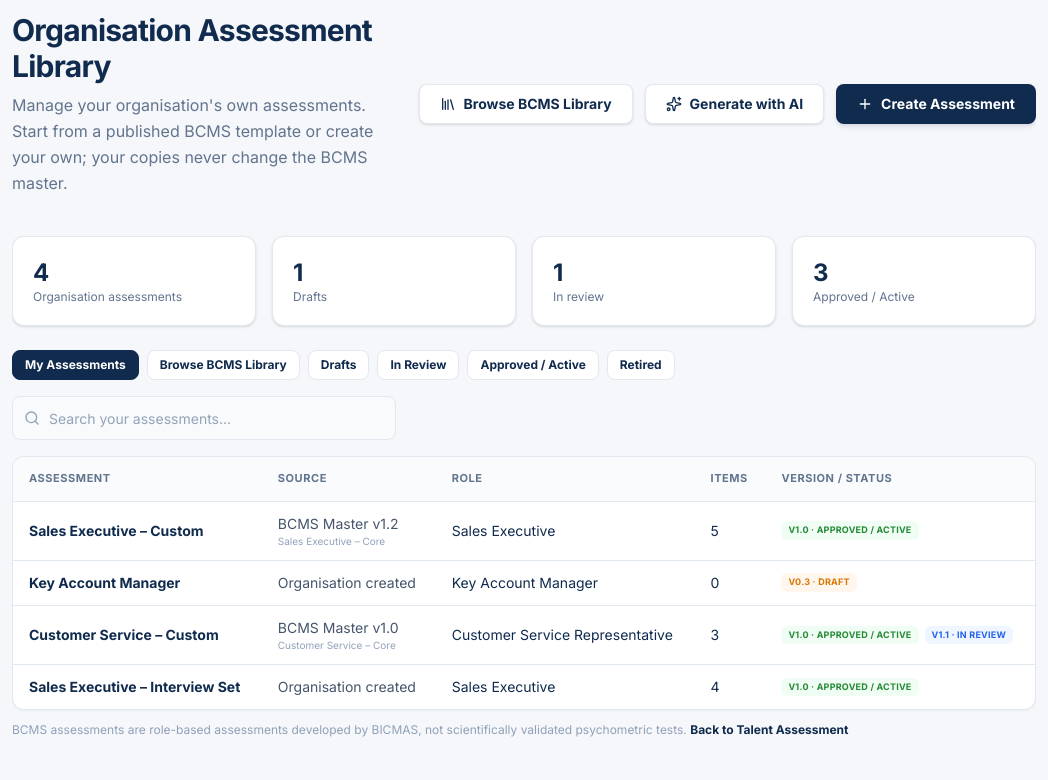
it: Organisation Assessment Library screen › shows the organisation's assessments by lifecycle
Expected: the text "Sales Executive – Custom" is shown, [29,522,204,539]
Expected: the text "Organisation created" is shown 2 times, [278,574,416,591]; [278,678,416,695]
Click the tab "In Review". click: (418, 365)
box: [378,350,460,380]
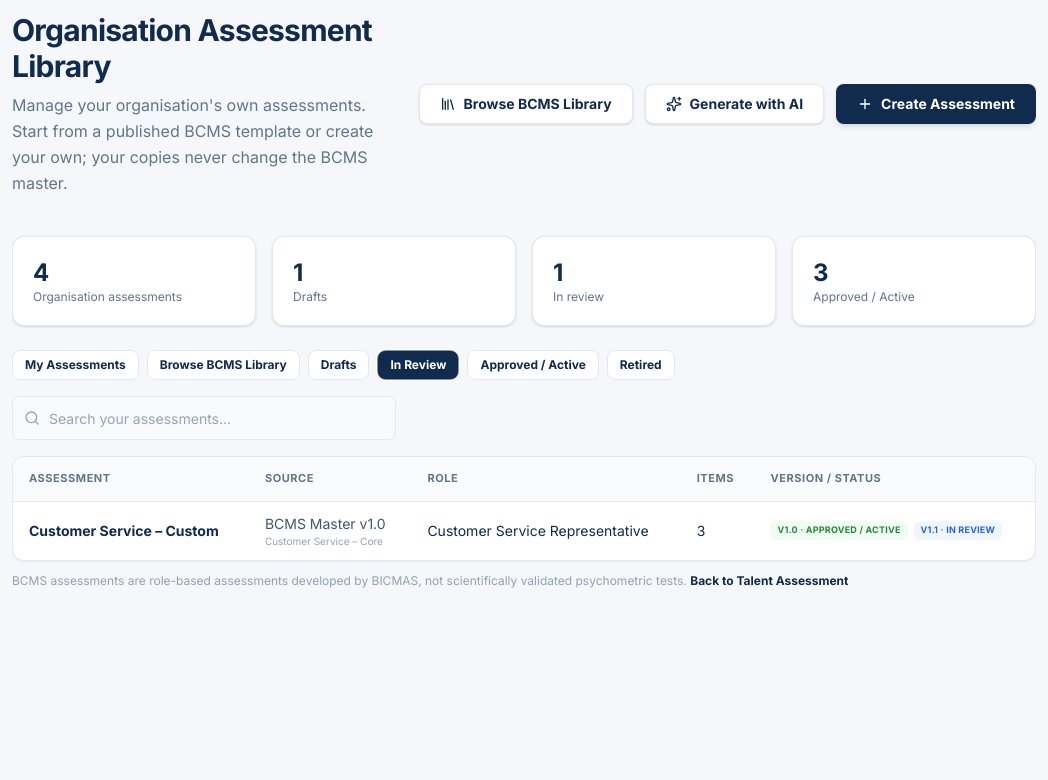
Expected: the text "Customer Service – Custom" is shown, [29,522,219,539]
Expected: the text "Key Account Manager" is gone
Click the tab "Drafts". click: (339, 365)
box: [308,350,370,380]
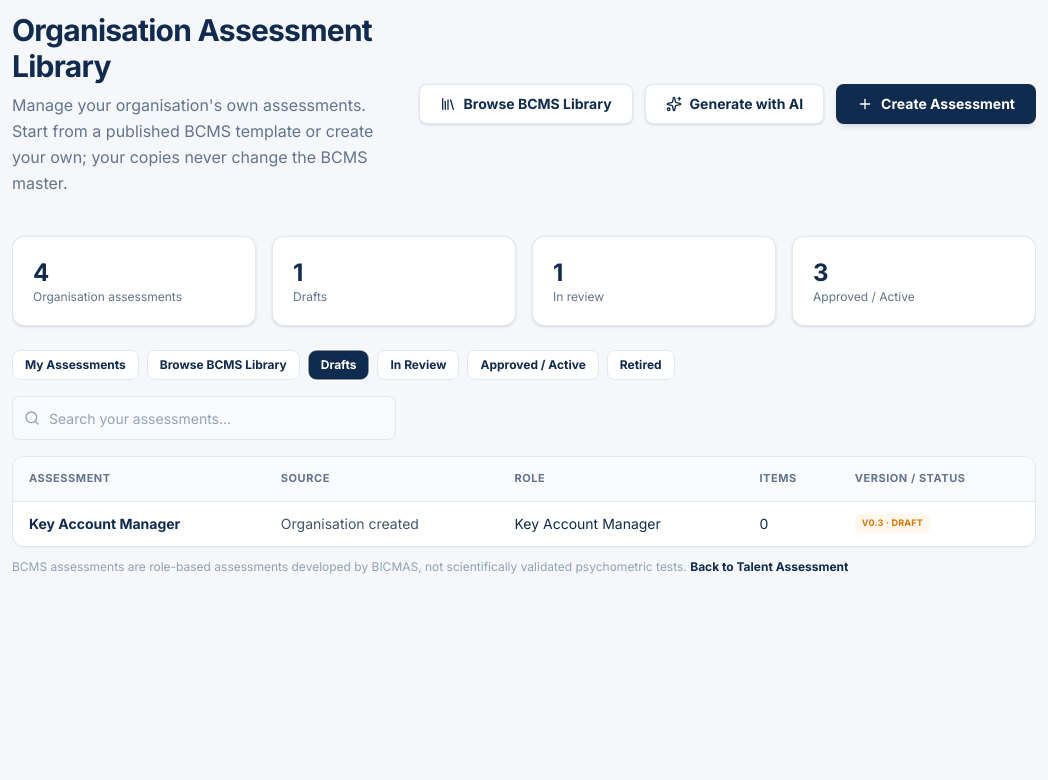
Expected: the text "Sales Executive – Custom" is not shown
Expected: the text "Key Account Manager" is shown, [29,514,180,532]
